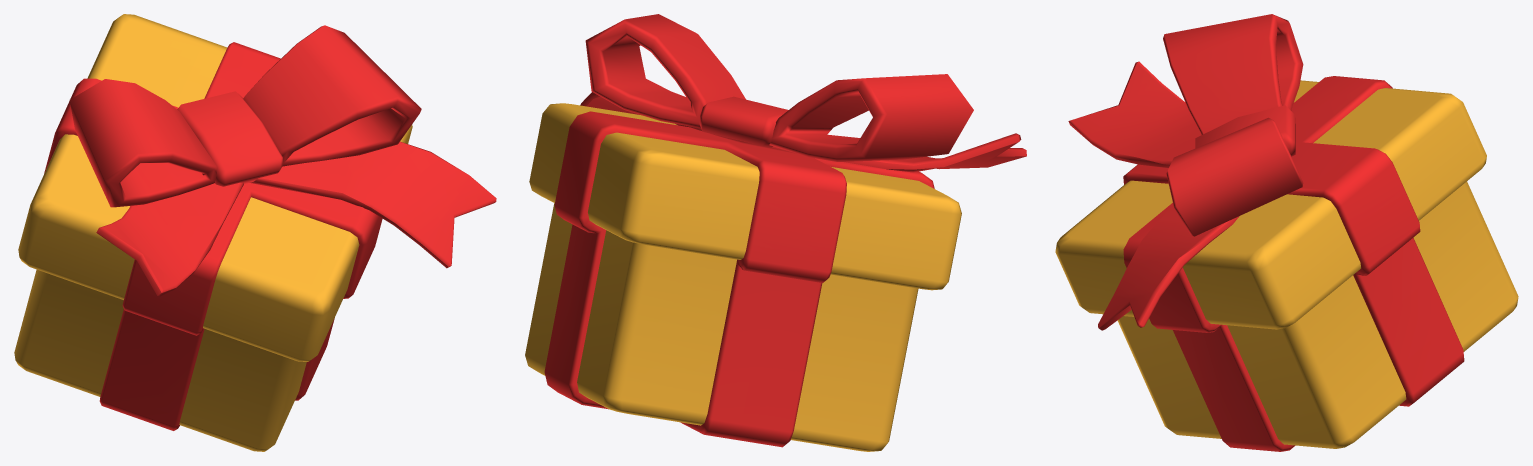
3 views of the same model, side by side, from view 1: azimuth 30°, elevation 25°; view 2: azimuth 150°, elevation 25°; view 3: azimuth 270°, elevation 25° (orthographic). The views are drawn at different scales.
Parts seen in each view (by area): view 1: model_1.070; view 2: model_1.070; view 3: model_1.070.
Part boxes in pixels (x1,y1,x2,y2): model_1.070: (14, 14, 496, 451); model_1.070: (525, 14, 1026, 451); model_1.070: (1055, 14, 1518, 451).
Bounding box in the file's own units: 4.98 × 4.27 × 4.92.
